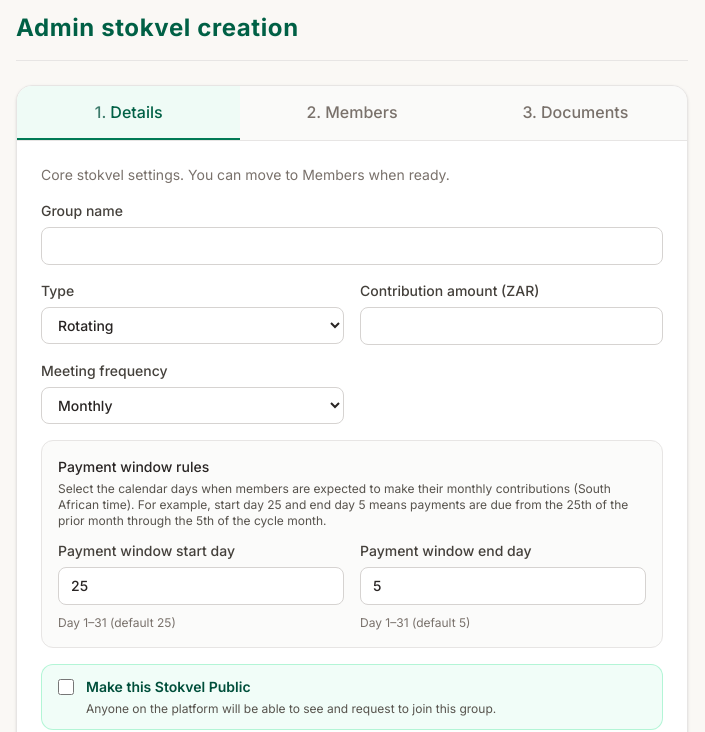
Test: CreateStokvelWizard › Details Validation › shows error if contribution amount is invalid
Type "My Stokvel" into the field labelled "Group name" at point(352, 246), box x1=41 y1=227 x2=663 y2=265
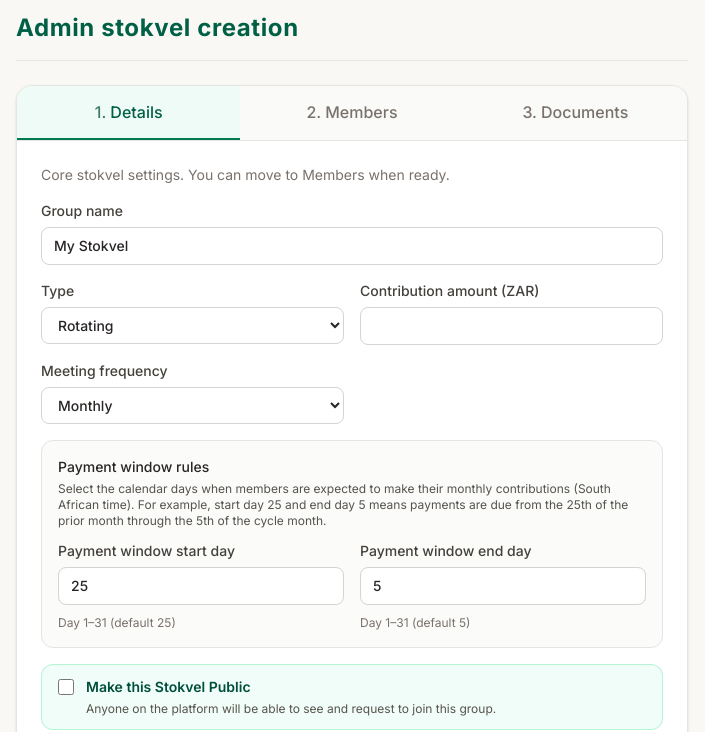
Type "-5" into the number field labelled "Contribution amount (ZAR)" at point(512, 326), box x1=360 y1=307 x2=663 y2=345
(page scrolled)
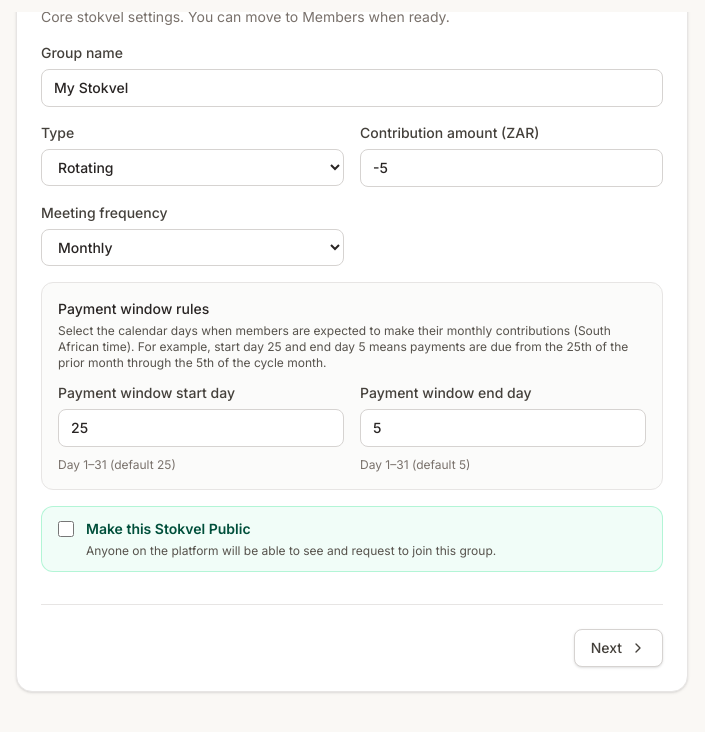
Click the button "Next" at point(618, 648), box x1=574 y1=629 x2=663 y2=667
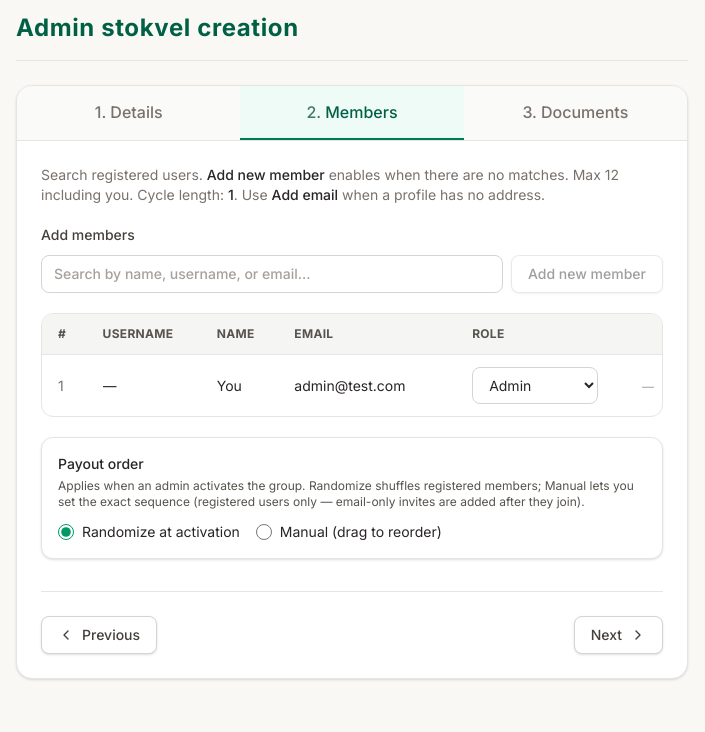
Click the button "Next" at point(618, 635), box x1=574 y1=616 x2=663 y2=654
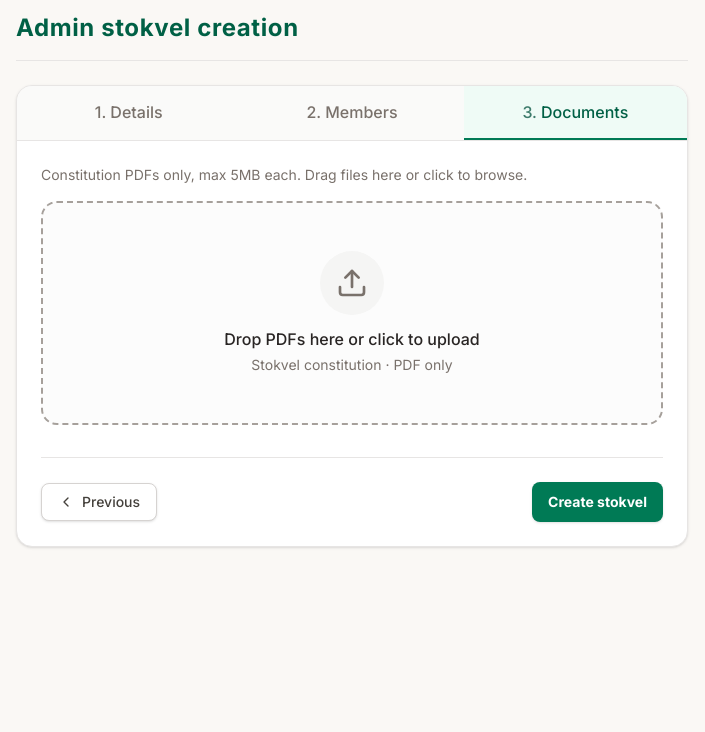
Click the button "Create stokvel" at point(598, 502), box x1=532 y1=482 x2=663 y2=522
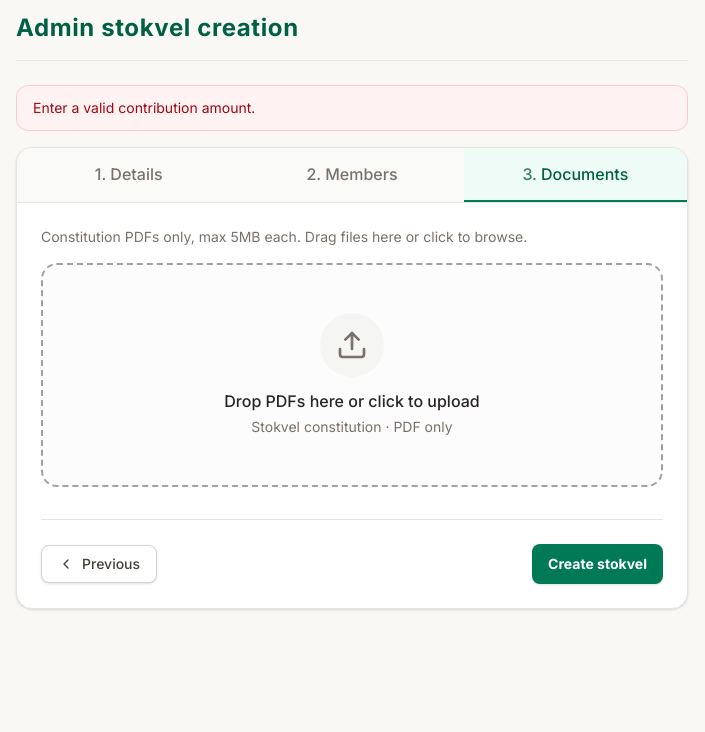
Check: the text "Enter a valid contribution amount." is shown, box x1=16 y1=85 x2=688 y2=131
